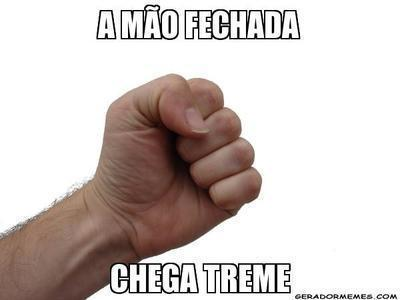closedhandfront: (94, 63, 272, 252)
